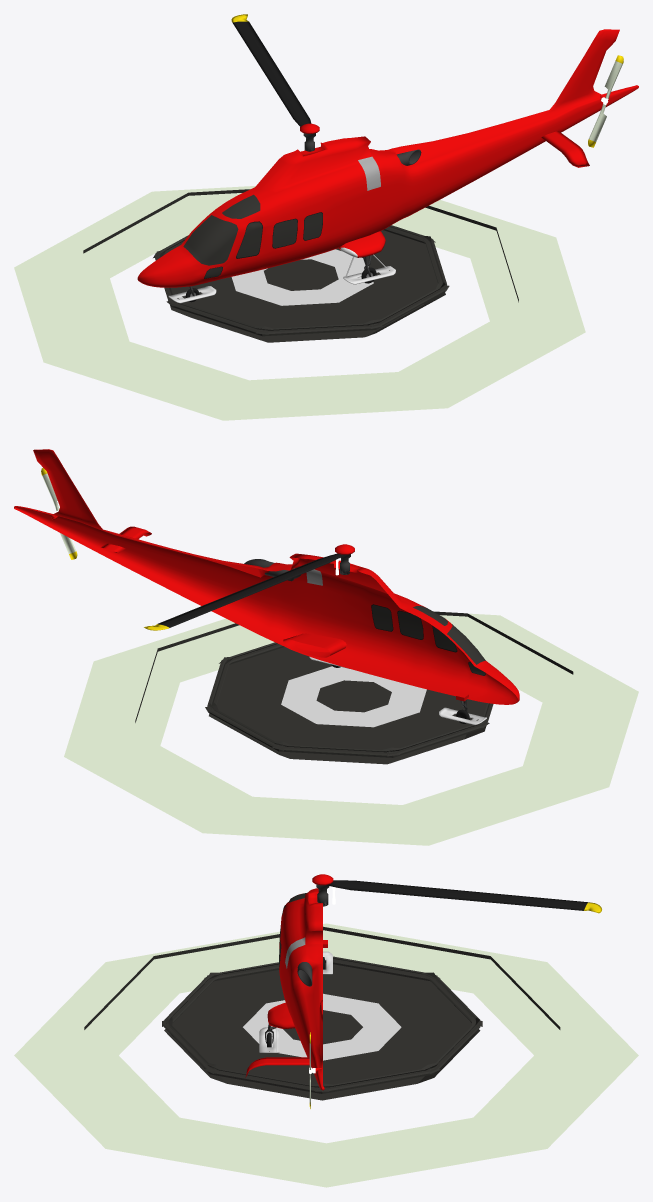
File: AgustaDaVinci.gltf
3 views of the same model, one above another, from view 1: azimuth 30°, elevation 25°; view 2: azimuth 150°, elevation 25°; view 3: azimuth 270°, elevation 25° (orthographic). The views are drawn at different scales.
Visible parts, largest first — view 1: Cylinder.006, Cube, Cylinder.005, Cylinder.003, Cube.001, Cube.004, Cylinder.002; view 2: Cylinder.006, Cube, Cylinder.005, Cylinder.003, Cube.004; view 3: Cylinder.006, Cylinder.005, Cube, Cylinder.003, Cube.001, Cube.004.
Boxes of the visible parts, x1=… form: Cylinder.006: x1=14, y1=186, x2=585, y2=420; Cube: x1=137, y1=29, x2=638, y2=287; Cylinder.005: x1=83, y1=189, x2=518, y2=342; Cylinder.003: x1=231, y1=14, x2=311, y2=126; Cube.001: x1=541, y1=131, x2=589, y2=167; Cube.004: x1=339, y1=231, x2=385, y2=257; Cylinder.002: x1=588, y1=55, x2=623, y2=147; Cylinder.006: x1=64, y1=613, x2=638, y2=845; Cube: x1=14, y1=449, x2=519, y2=704; Cylinder.005: x1=135, y1=611, x2=573, y2=764; Cylinder.003: x1=144, y1=553, x2=345, y2=630; Cube.004: x1=283, y1=633, x2=346, y2=657; Cylinder.006: x1=14, y1=923, x2=638, y2=1187; Cylinder.005: x1=84, y1=926, x2=560, y2=1100; Cube: x1=279, y1=888, x2=324, y2=1090; Cylinder.003: x1=327, y1=880, x2=601, y2=913; Cube.001: x1=245, y1=1057, x2=309, y2=1077; Cube.004: x1=267, y1=1002, x2=294, y2=1028.
Size of what is drawn, in the model's own units: 11.05 by 3.52 by 9.55.
